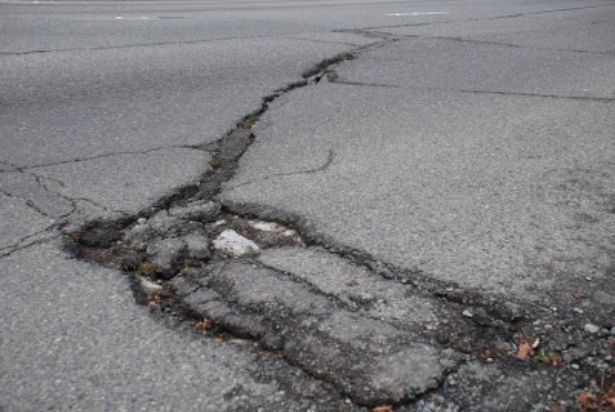pothole: (54, 192, 553, 411)
